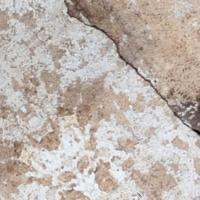crack: (61, 1, 199, 153)
